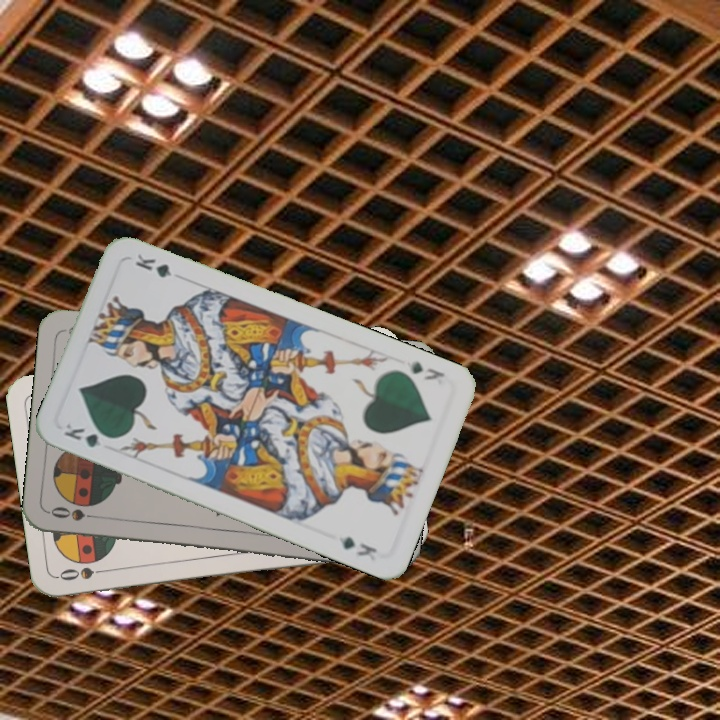GK: (60, 419, 117, 451), (408, 357, 448, 383)
SO: (47, 502, 106, 523), (55, 563, 114, 583)
